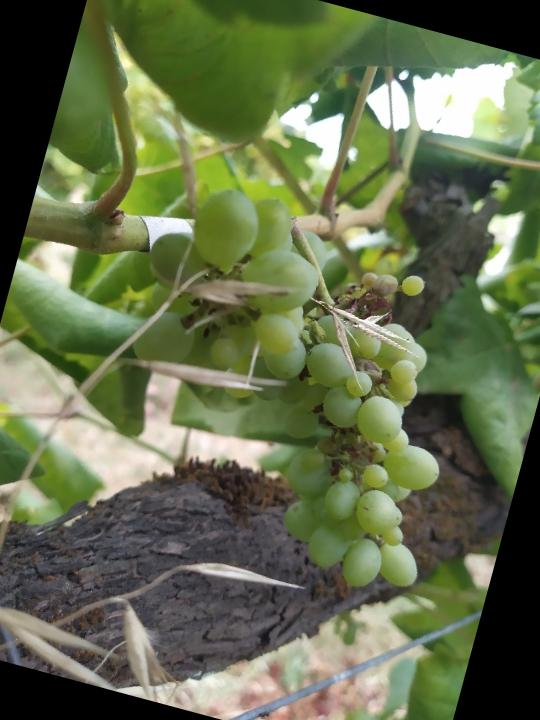grape: (77, 167, 508, 605)
